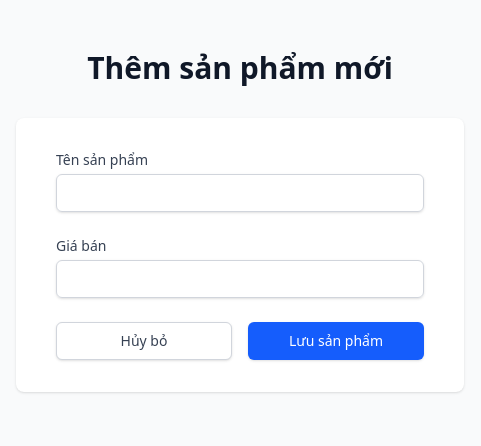
Scenario: ProductForm component tests › show error when createProduct fails
Type "Bad" into the field with test id "name-input". click: (240,193)
box: top-left (56, 174), bottom-right (424, 212)
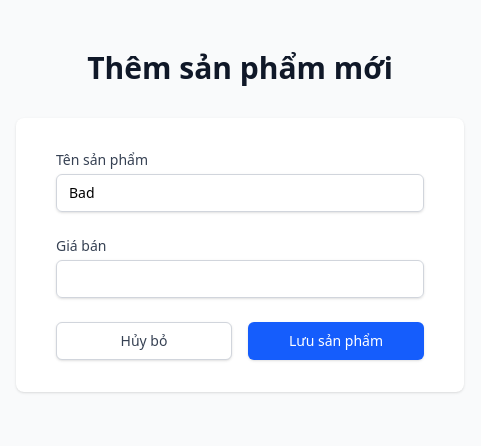
Type "1" into the number field with test id "price-input". click: (240,279)
box: top-left (56, 260), bottom-right (424, 298)
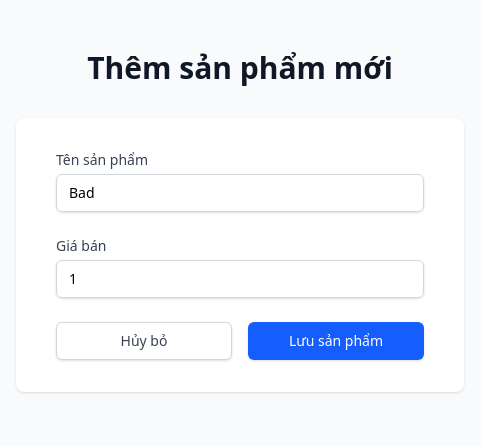
Click the button with test id "submit-button". click: (336,341)
box: top-left (248, 322), bottom-right (424, 360)
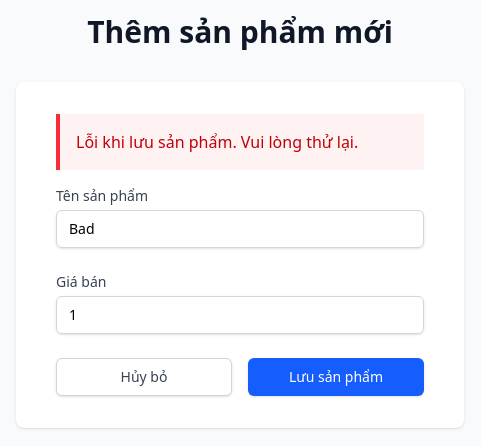
Expected: the text "Lỗi khi lưu sản phẩm. Vui lòng thử lại." is shown, top-left (76, 130), bottom-right (408, 154)
